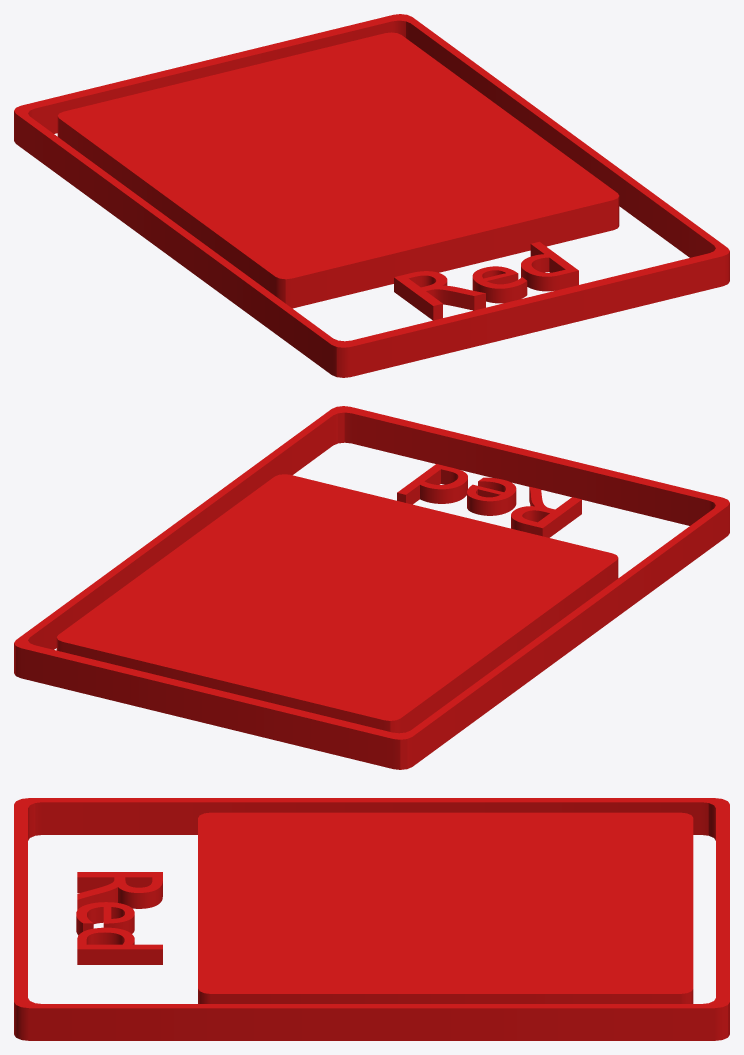
The model's file is colorRed.glb.
3 views of the same model, one above another, from view 1: azimuth 30°, elevation 25°; view 2: azimuth 150°, elevation 25°; view 3: azimuth 270°, elevation 25° (orthographic). The views are drawn at different scales.
Parts seen in each view (by area): view 1: Cube; view 2: Cube; view 3: Cube.
Part boxes in pixels (bbox=[...]): Cube: bbox=[14, 14, 729, 377]; Cube: bbox=[14, 406, 729, 769]; Cube: bbox=[14, 798, 729, 1040].
Bounding box in the file's own units: 0.9357 × 0.0682 × 1.35.
